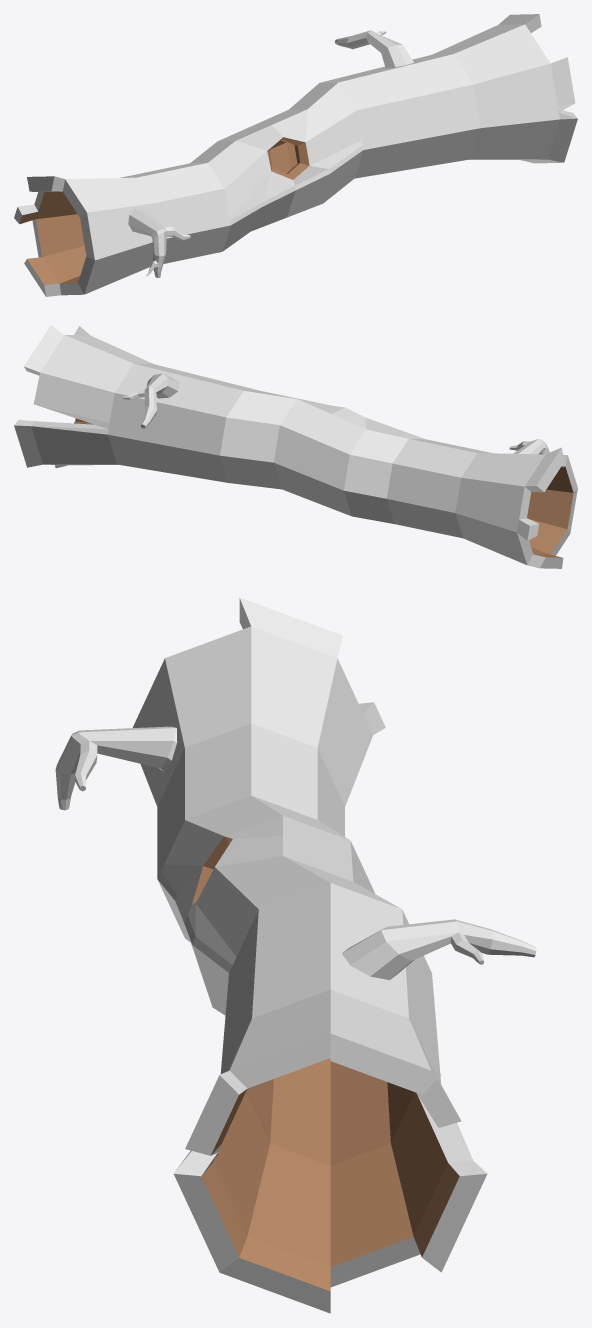
Rendered from Kayu Terbentang.fbx.
3 renders of one model, top to bottom at view 1: azimuth 30°, elevation 25°; view 2: azimuth 150°, elevation 25°; view 3: azimuth 270°, elevation 25°, orthographic. The views are drawn at different scales.
Visible parts, largest first — view 1: Pohon; view 2: Pohon; view 3: Pohon.
Part boxes in pixels (bbox=[...]): Pohon: bbox=[14, 14, 577, 296]; Pohon: bbox=[14, 325, 577, 568]; Pohon: bbox=[55, 597, 536, 1313].
Bounding box in the file's own units: 722 × 198 × 303.
